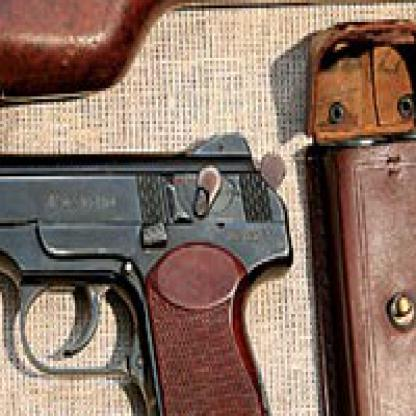gun: (0, 124, 306, 413)
